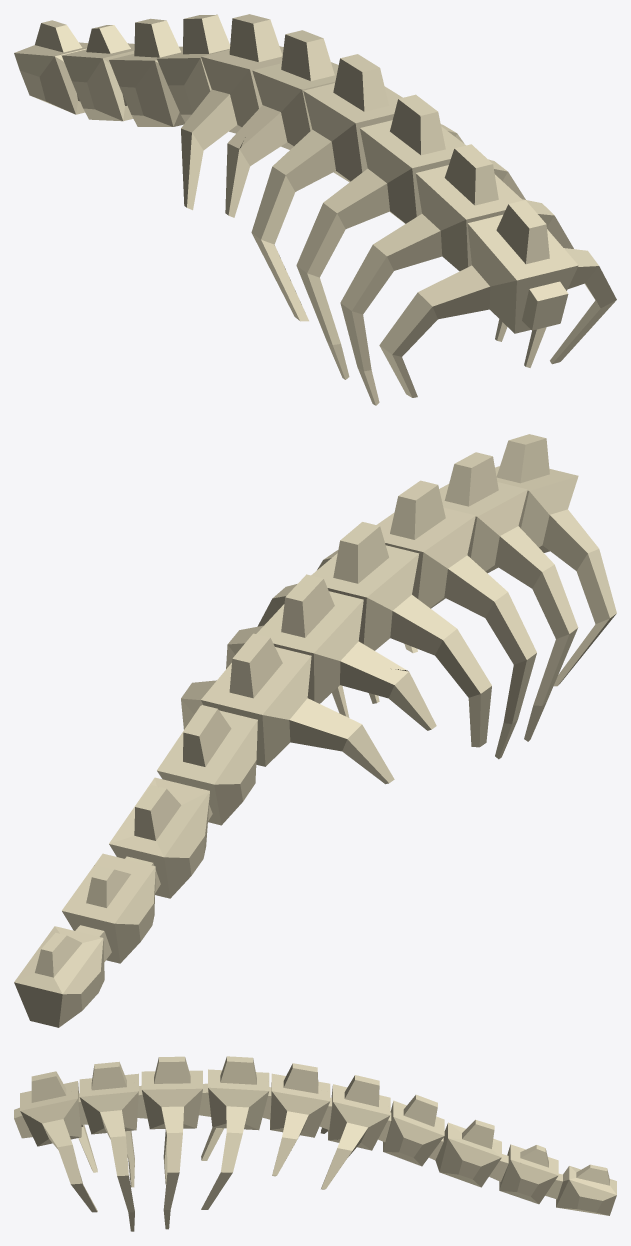
File: Skeleton.fbx
3 views of the same model, one above another, from view 1: azimuth 30°, elevation 25°; view 2: azimuth 150°, elevation 25°; view 3: azimuth 270°, elevation 25° (orthographic). The views are drawn at different scales.
Visible parts, largest first — view 1: Cube; view 2: Cube; view 3: Cube.
Boxes of the visible parts, x1,y1,x2,y2 form: Cube: [14, 14, 616, 405]; Cube: [14, 434, 616, 1027]; Cube: [14, 1056, 616, 1231].
Size of the model in its own units: 30.72 by 33.19 by 119.
1 material, 1 textured.
